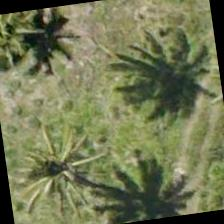Kelapa_Sawit: (14, 122, 117, 223), (0, 9, 52, 81)
